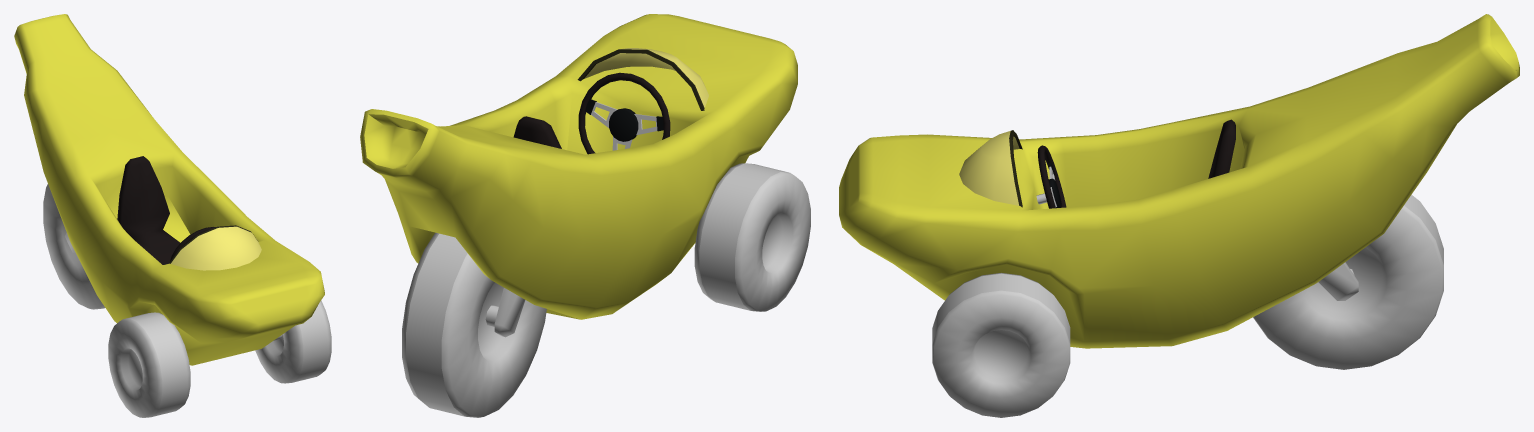
Rendered from Car.obj.
3 views of the same model, side by side, from view 1: azimuth 30°, elevation 25°; view 2: azimuth 150°, elevation 25°; view 3: azimuth 270°, elevation 25° (orthographic). The views are drawn at different scales.
Parts seen in each view (by area): view 1: body, tire_2, chair, tire_3, windshield, tire; view 2: body, tire, tire_2, windshield, Torus, wheel_support, chair, Cylinder_2; view 3: body, tire, tire_3, windshield, chair, wheel_support, Torus.
Part boxes in pixels (x1,y1,x2,y2): body: [14, 14, 324, 365]; tire_2: [108, 312, 190, 417]; chair: [117, 156, 180, 264]; tire_3: [255, 300, 331, 383]; windshield: [169, 225, 261, 270]; tire: [43, 184, 105, 309]; body: [360, 14, 797, 319]; tire: [402, 232, 546, 417]; tire_2: [694, 163, 810, 311]; windshield: [577, 48, 708, 110]; Torus: [578, 72, 670, 154]; wheel_support: [494, 288, 525, 337]; chair: [513, 116, 561, 148]; Cylinder_2: [609, 108, 638, 141]; body: [839, 14, 1519, 348]; tire: [1253, 195, 1443, 369]; tire_3: [932, 272, 1070, 417]; windshield: [959, 130, 1022, 207]; chair: [1208, 119, 1235, 178]; wheel_support: [1318, 262, 1358, 300]; Torus: [1037, 145, 1066, 208].
Size of the model in its own units: 334 by 439 by 808.
